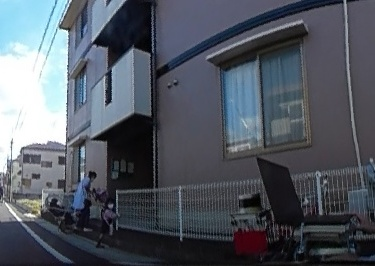person: (353, 71, 375, 266), (73, 167, 94, 234), (100, 199, 117, 248)
